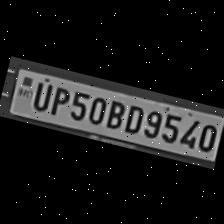0: (84, 89, 110, 125), (194, 118, 219, 151)
4: (176, 112, 202, 148)
5: (64, 86, 90, 122), (158, 107, 183, 144)
9: (139, 103, 163, 138)
B: (101, 94, 126, 129)
D: (119, 98, 146, 134)
P: (46, 80, 72, 116)
U: (28, 77, 52, 111)
